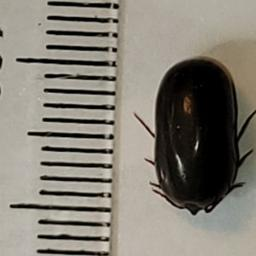Rhipicephalus sanguineus: (132, 58, 256, 217)
